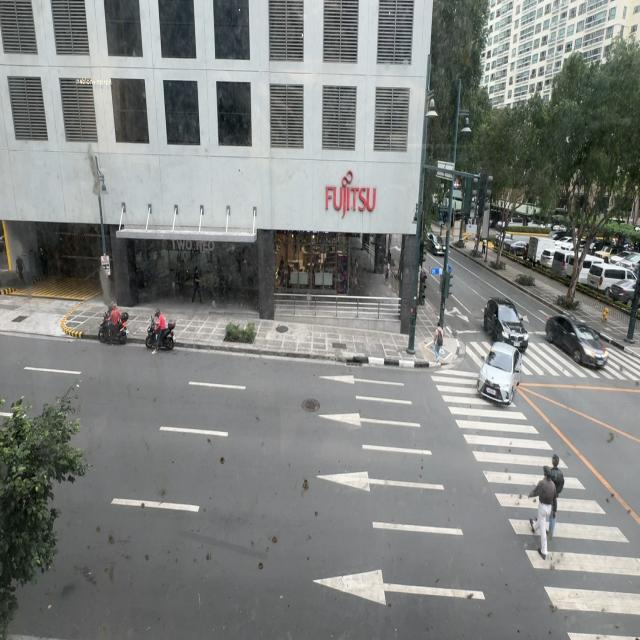crossing: (526, 462, 556, 558), (550, 450, 565, 500), (435, 322, 445, 364)
